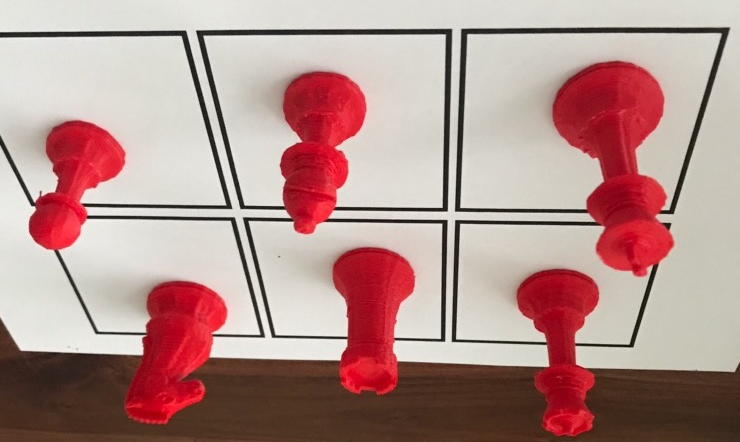Red Bishop: (276, 67, 375, 239)
Red Castle: (321, 242, 419, 398)
Red King: (545, 56, 702, 282)
Red Knight: (117, 271, 230, 429)
Red Pawn: (23, 118, 126, 258)
Red Queen: (512, 263, 628, 440)
